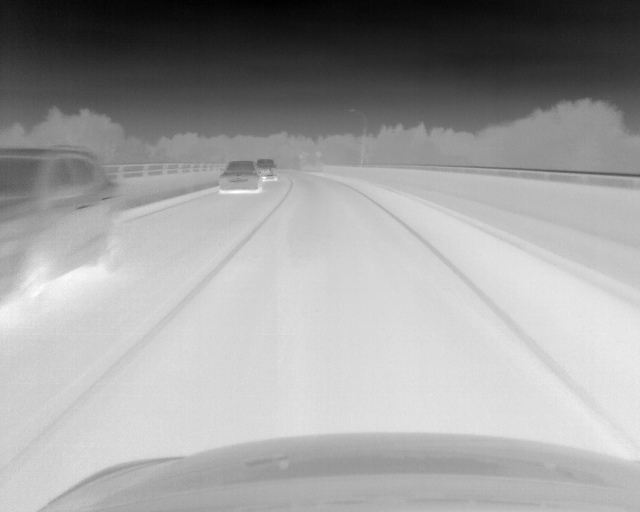car: (1, 147, 129, 305), (219, 159, 263, 193), (256, 159, 277, 183)
